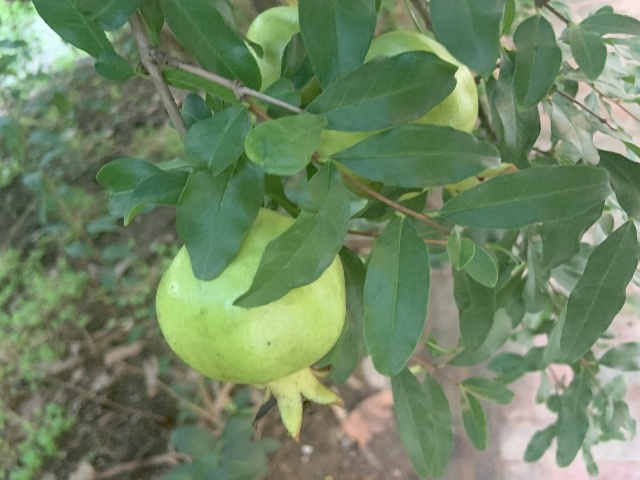mid-growth: (156, 208, 347, 444), (316, 30, 519, 197), (244, 5, 322, 114)
